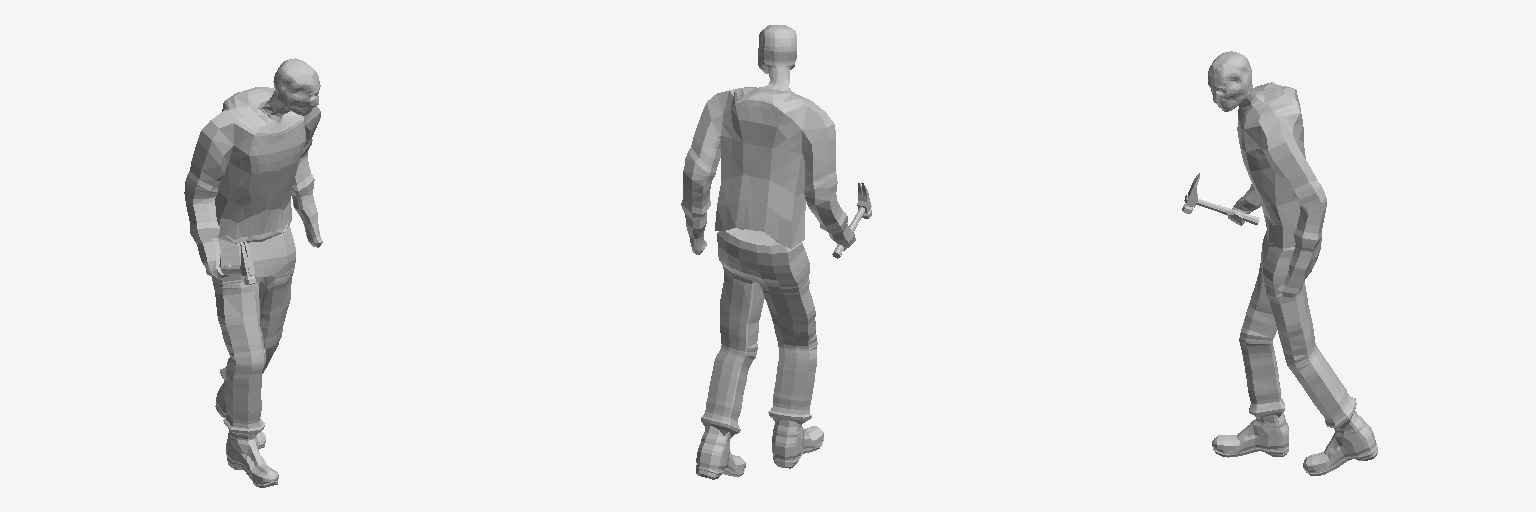
Rendered from Murderer_Idle98.obj.
3 views of the same model, side by side, from view 1: azimuth 30°, elevation 25°; view 2: azimuth 150°, elevation 25°; view 3: azimuth 270°, elevation 25° (orthographic).
Parts seen in each view (by area): view 1: Körper, Beine, Stiefel, Hammer; view 2: Körper, Beine, Stiefel, Hammer; view 3: Körper, Beine, Stiefel, Hammer.
Boxes of the visible parts, x1=… form: Körper: x1=184, y1=58, x2=322, y2=279; Beine: x1=211, y1=225, x2=295, y2=435; Stiefel: x1=215, y1=381, x2=278, y2=487; Hammer: x1=206, y1=241, x2=255, y2=284; Körper: x1=681, y1=25, x2=855, y2=254; Beine: x1=701, y1=228, x2=817, y2=437; Stiefel: x1=696, y1=420, x2=823, y2=479; Hammer: x1=832, y1=183, x2=871, y2=258; Körper: x1=1208, y1=51, x2=1326, y2=297; Beine: x1=1239, y1=231, x2=1356, y2=428; Stiefel: x1=1212, y1=411, x2=1377, y2=475; Hammer: x1=1182, y1=173, x2=1259, y2=224.
Size of the model in its own units: 0.3358 by 0.959 by 0.4094.